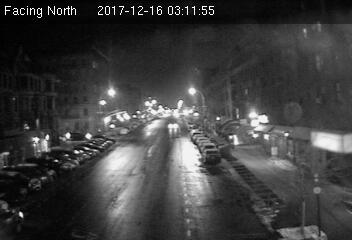car: (203, 148, 222, 165)
